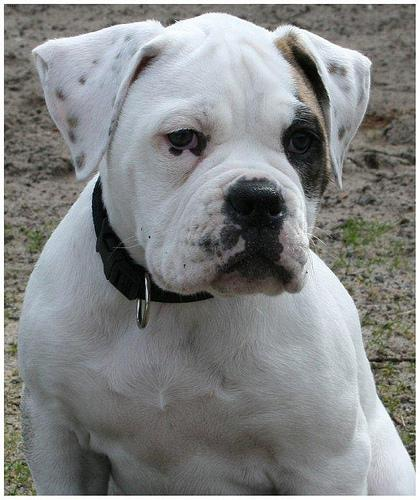dog-american_bulldog: (30, 11, 371, 294)
